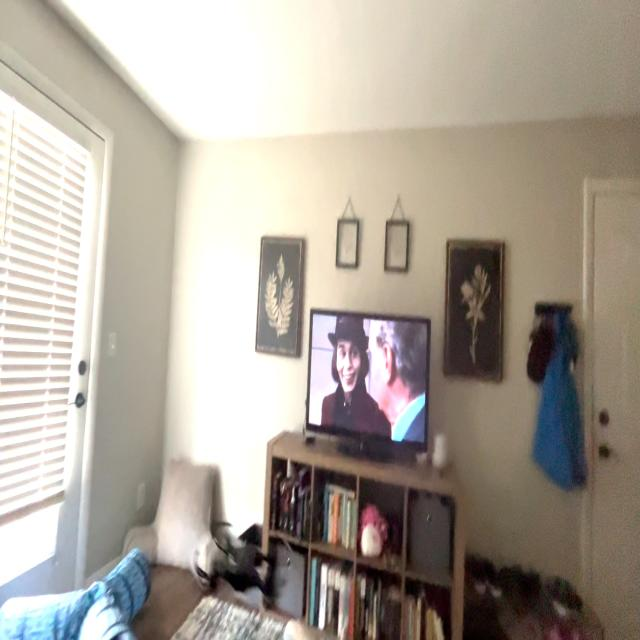drone: (186, 488, 294, 630)
